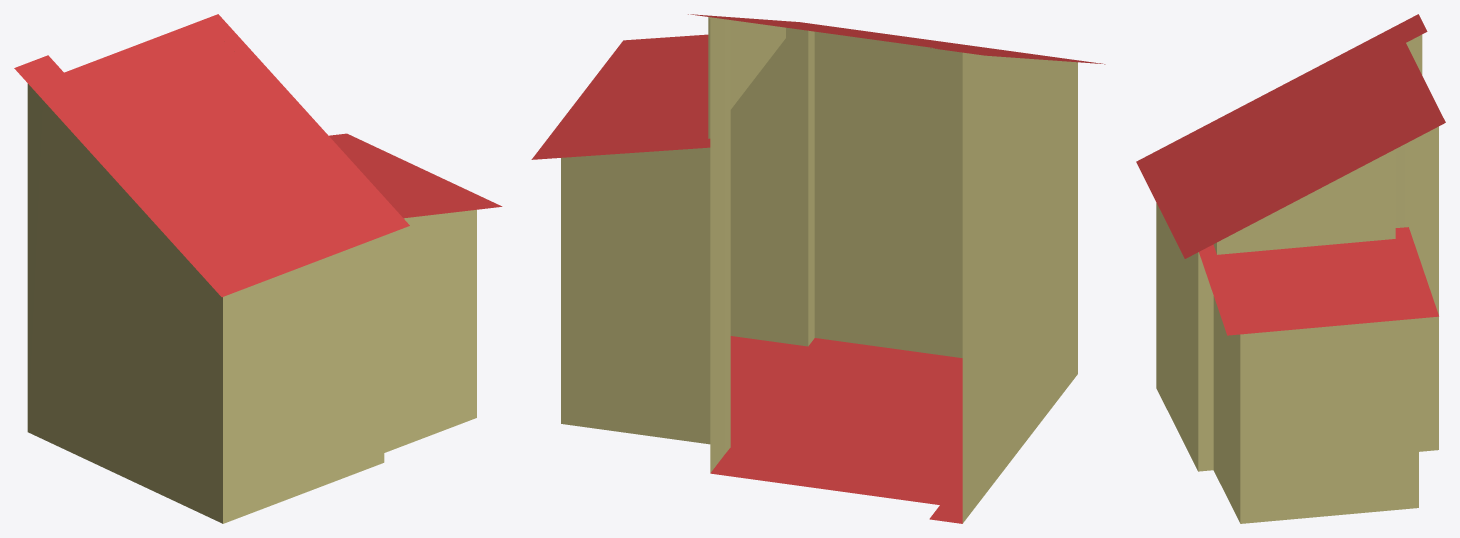
3 views of the same model, side by side, from view 1: azimuth 30°, elevation 25°; view 2: azimuth 150°, elevation 25°; view 3: azimuth 270°, elevation 25° (orthographic). The views are drawn at different scales.
Size of the model in its own units: 12.12 by 9.06 by 11.07.
